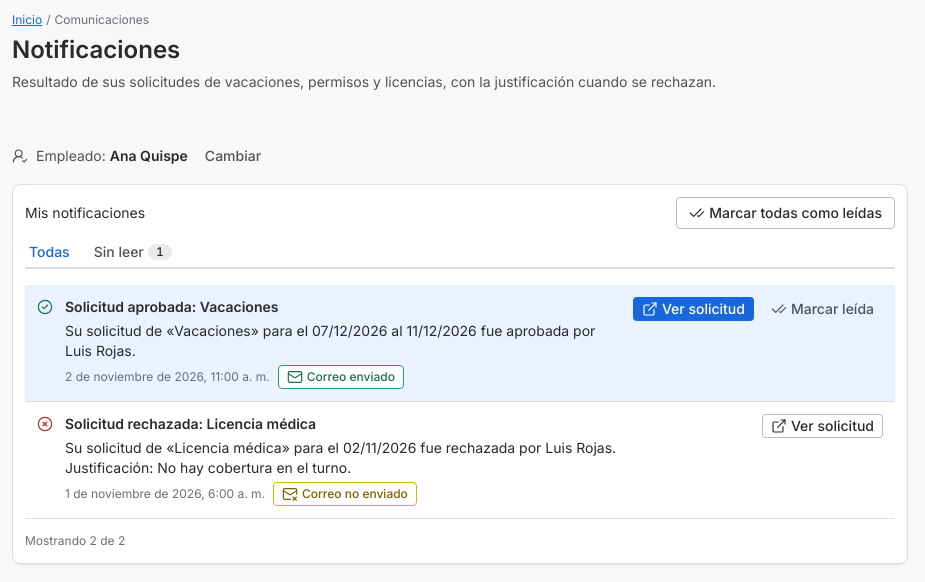
Vista de notificaciones › la pestaña «Sin leer» pide solo las no leídas y muestra el vacío cuando no hay
This screenshot has width=925, height=582.
Expected: the heading "Solicitud aprobada: Vacaciones" is shown, [65,298,278,315]
Click the tab "Sin leer 1": (133, 253) [90,237,176,269]
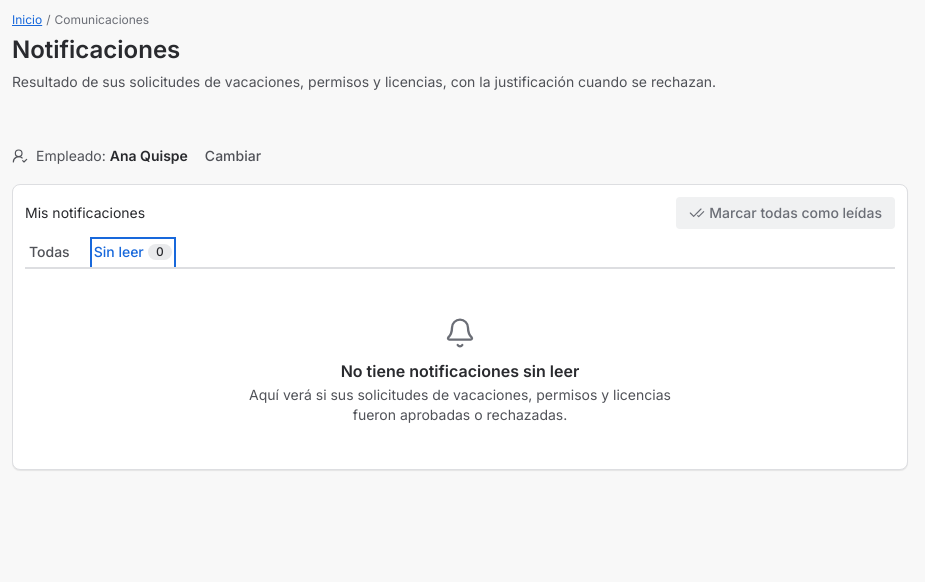
Now the text "No tiene notificaciones sin leer" is shown, box [341,361,579,381]
